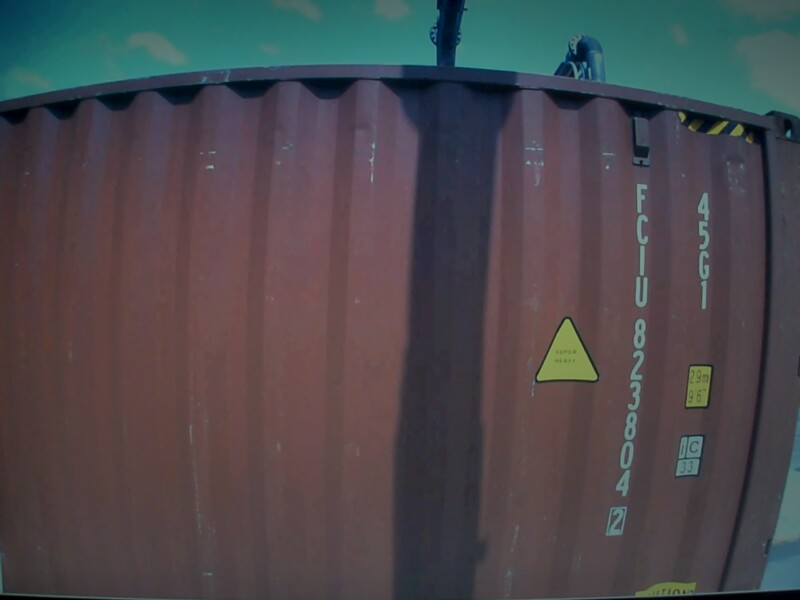container_no_door: (157, 83, 756, 591)
